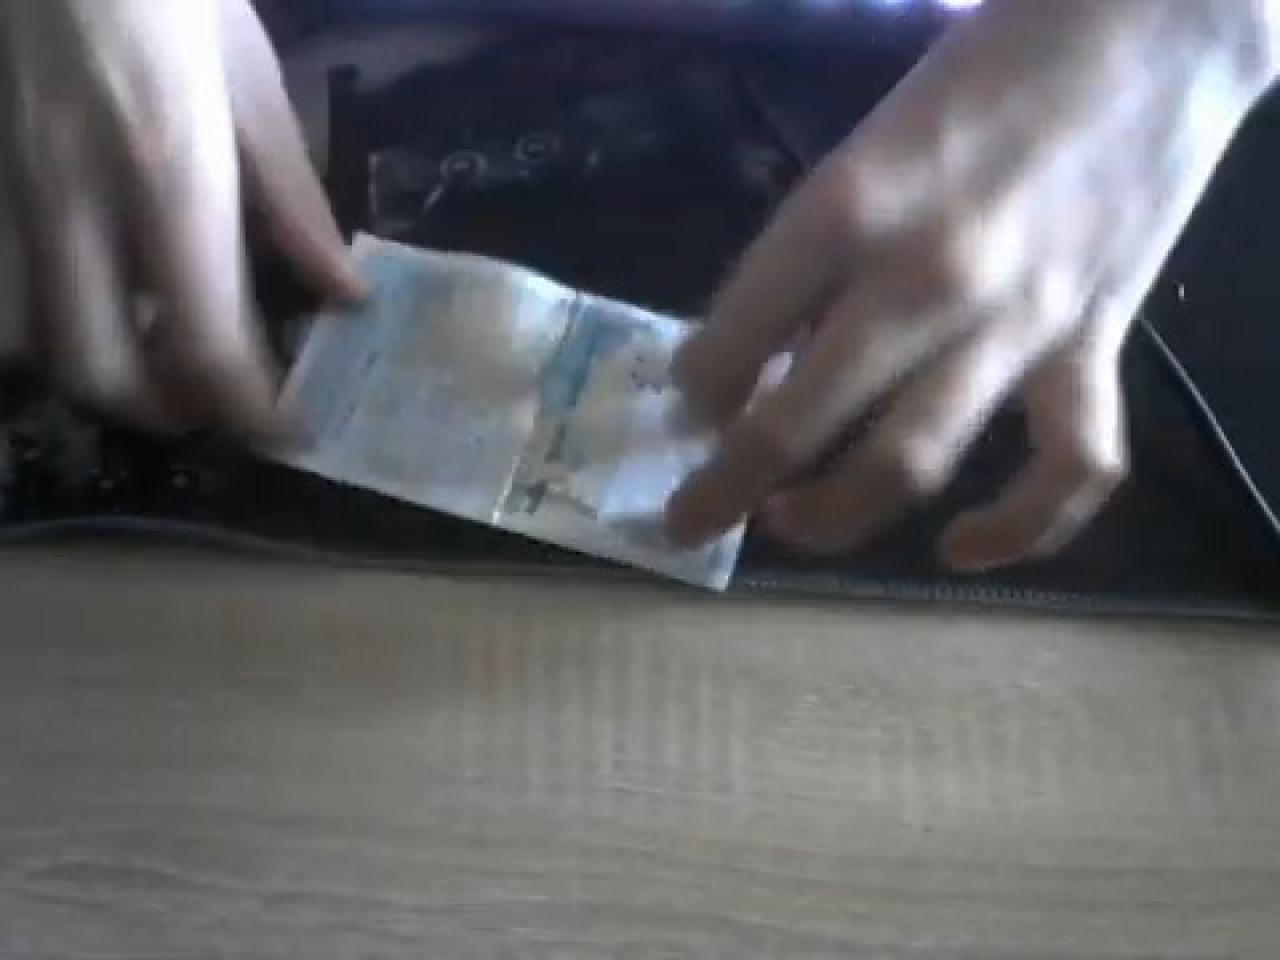20leva: (16, 0, 1275, 595)
